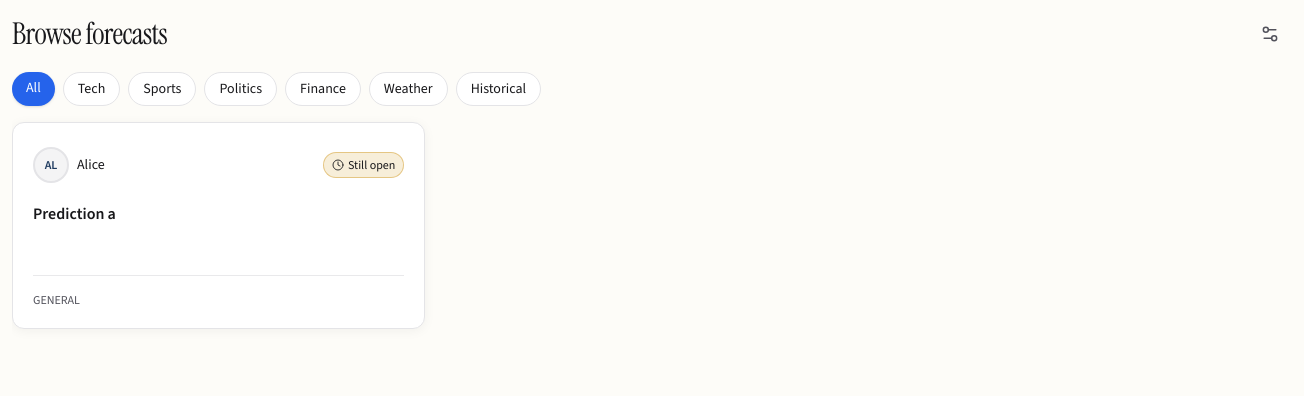
Test case: BrowseForecastsSection › given loaded section, should hide sort tabs until toggled
Expected: the radio button labelled "newest" is not shown
Click the button named "show sort options": (1270, 34) [1248,12,1292,56]
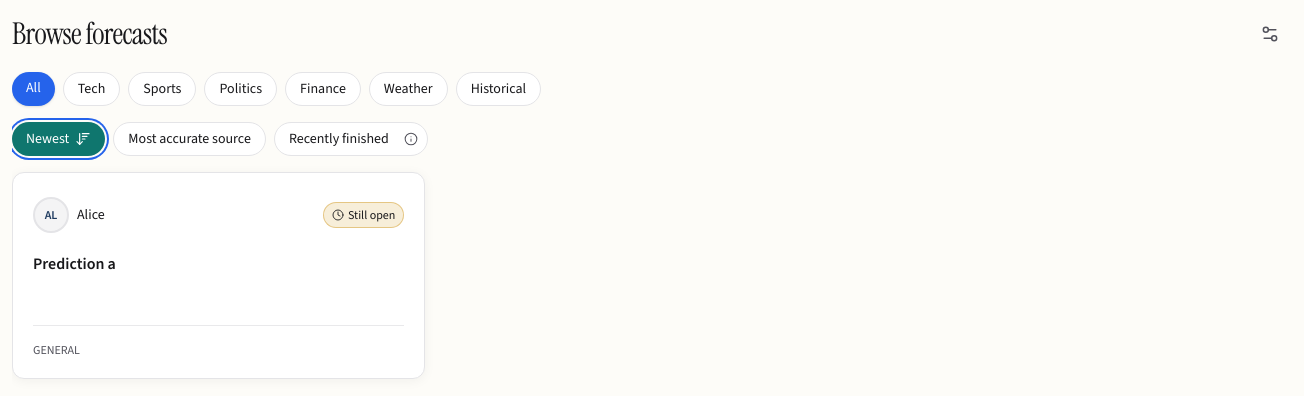
Expected: the radio button labelled "Newest" is shown, [26,129,91,148]
